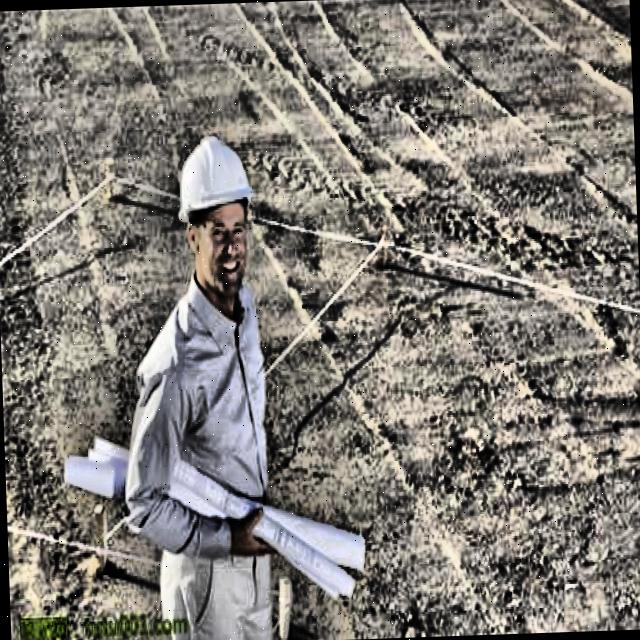helmet: (164, 117, 262, 305)
